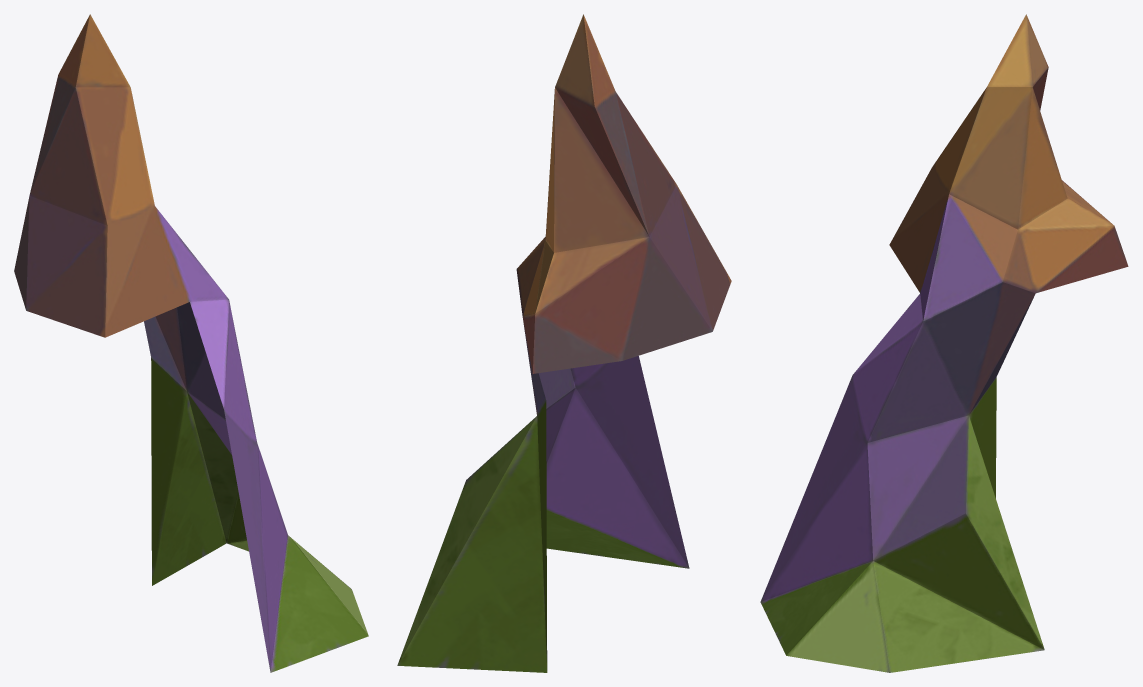
The model's file is wall_crys_deco1.fbx.
3 renders of one model, left to right at view 1: azimuth 30°, elevation 25°; view 2: azimuth 150°, elevation 25°; view 3: azimuth 270°, elevation 25°, orthographic. The views are drawn at different scales.
Parts seen in each view (by area): view 1: wall_crys_deco1; view 2: wall_crys_deco1; view 3: wall_crys_deco1.
Part boxes in pixels (x1,y1,x2,y2): wall_crys_deco1: (14,14,368,672); wall_crys_deco1: (397,14,731,672); wall_crys_deco1: (760,14,1128,672).
Bounding box in the file's own units: 0.0187 × 0.0367 × 0.0216.
